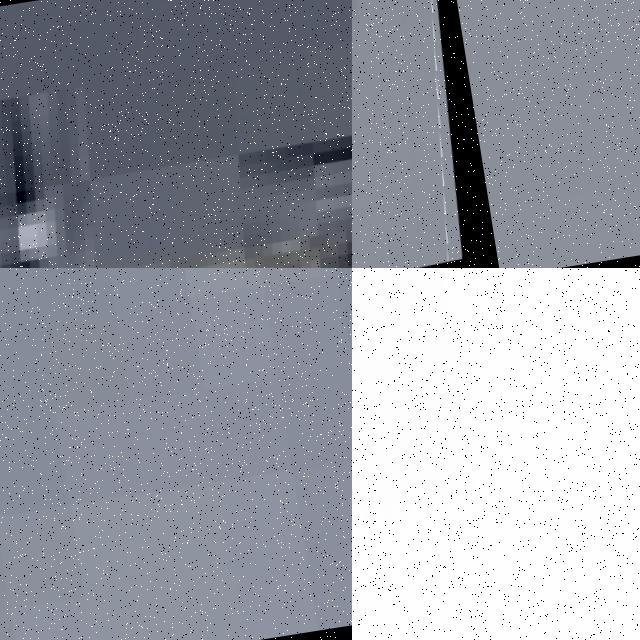drone: (0, 0, 352, 268), (352, 0, 499, 268)
